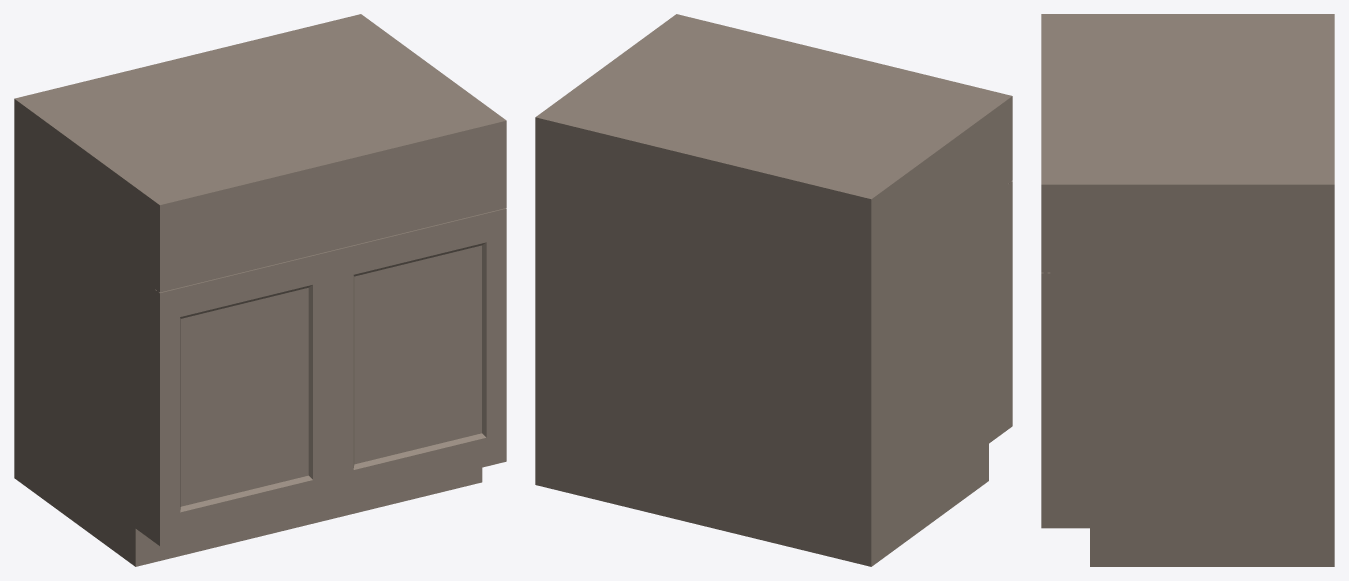
File: Base-Cabinet-Double-Door-One-Drawer-24-Deep_std_001_W33in.glb
3 renders of one model, left to right at view 1: azimuth 30°, elevation 25°; view 2: azimuth 150°, elevation 25°; view 3: azimuth 270°, elevation 25°, orthographic. The views are drawn at different scales.
Parts seen in each view (by area): view 1: Base-Cabinet-Double-Door-One-Drawer-24-Deep.std.001_W33in; view 2: Base-Cabinet-Double-Door-One-Drawer-24-Deep.std.001_W33in; view 3: Base-Cabinet-Double-Door-One-Drawer-24-Deep.std.001_W33in.
Part boxes in pixels (x1,y1,x2,y2): Base-Cabinet-Double-Door-One-Drawer-24-Deep.std.001_W33in: [14, 14, 506, 566]; Base-Cabinet-Double-Door-One-Drawer-24-Deep.std.001_W33in: [535, 14, 1012, 566]; Base-Cabinet-Double-Door-One-Drawer-24-Deep.std.001_W33in: [1041, 14, 1334, 566].
Size of the model in its own units: 0.8382 by 0.8763 by 0.6096.
